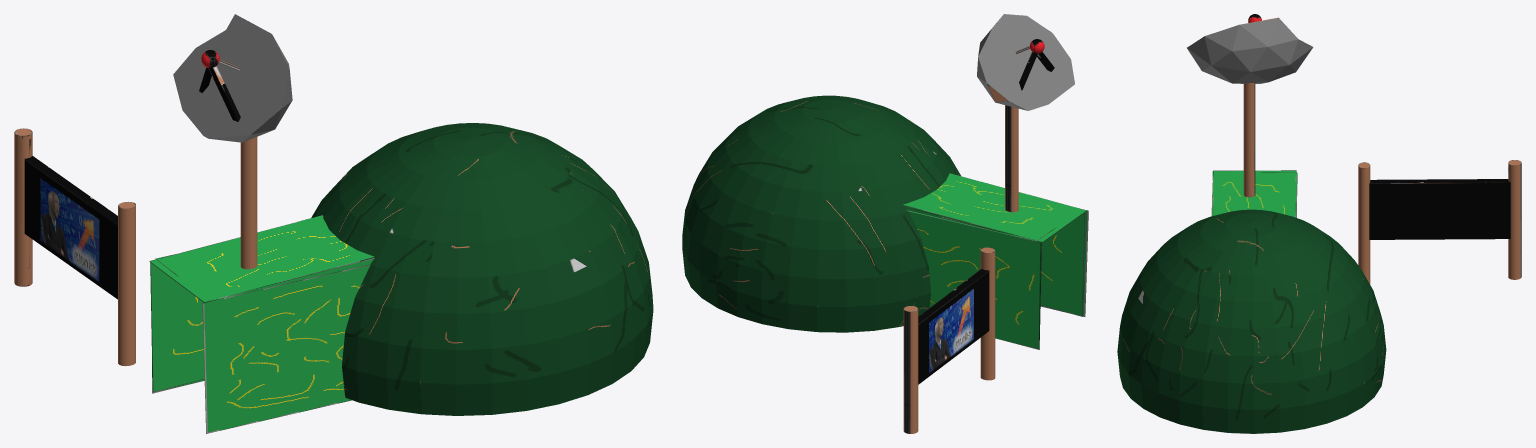
Rendered from radiostation2.obj.
3 renders of one model, left to right at view 1: azimuth 30°, elevation 25°; view 2: azimuth 150°, elevation 25°; view 3: azimuth 270°, elevation 25°, orthographic. The views are drawn at different scales.
Visible parts, largest first — view 1: Plane_Plane.003; view 2: Plane_Plane.003; view 3: Plane_Plane.003.
Boxes of the visible parts, x1,y1,x2,y2 form: Plane_Plane.003: (14,14,653,433); Plane_Plane.003: (682,14,1088,433); Plane_Plane.003: (1117,14,1521,433).
Size of the model in its own units: 27.34 by 21.7 by 27.81.
